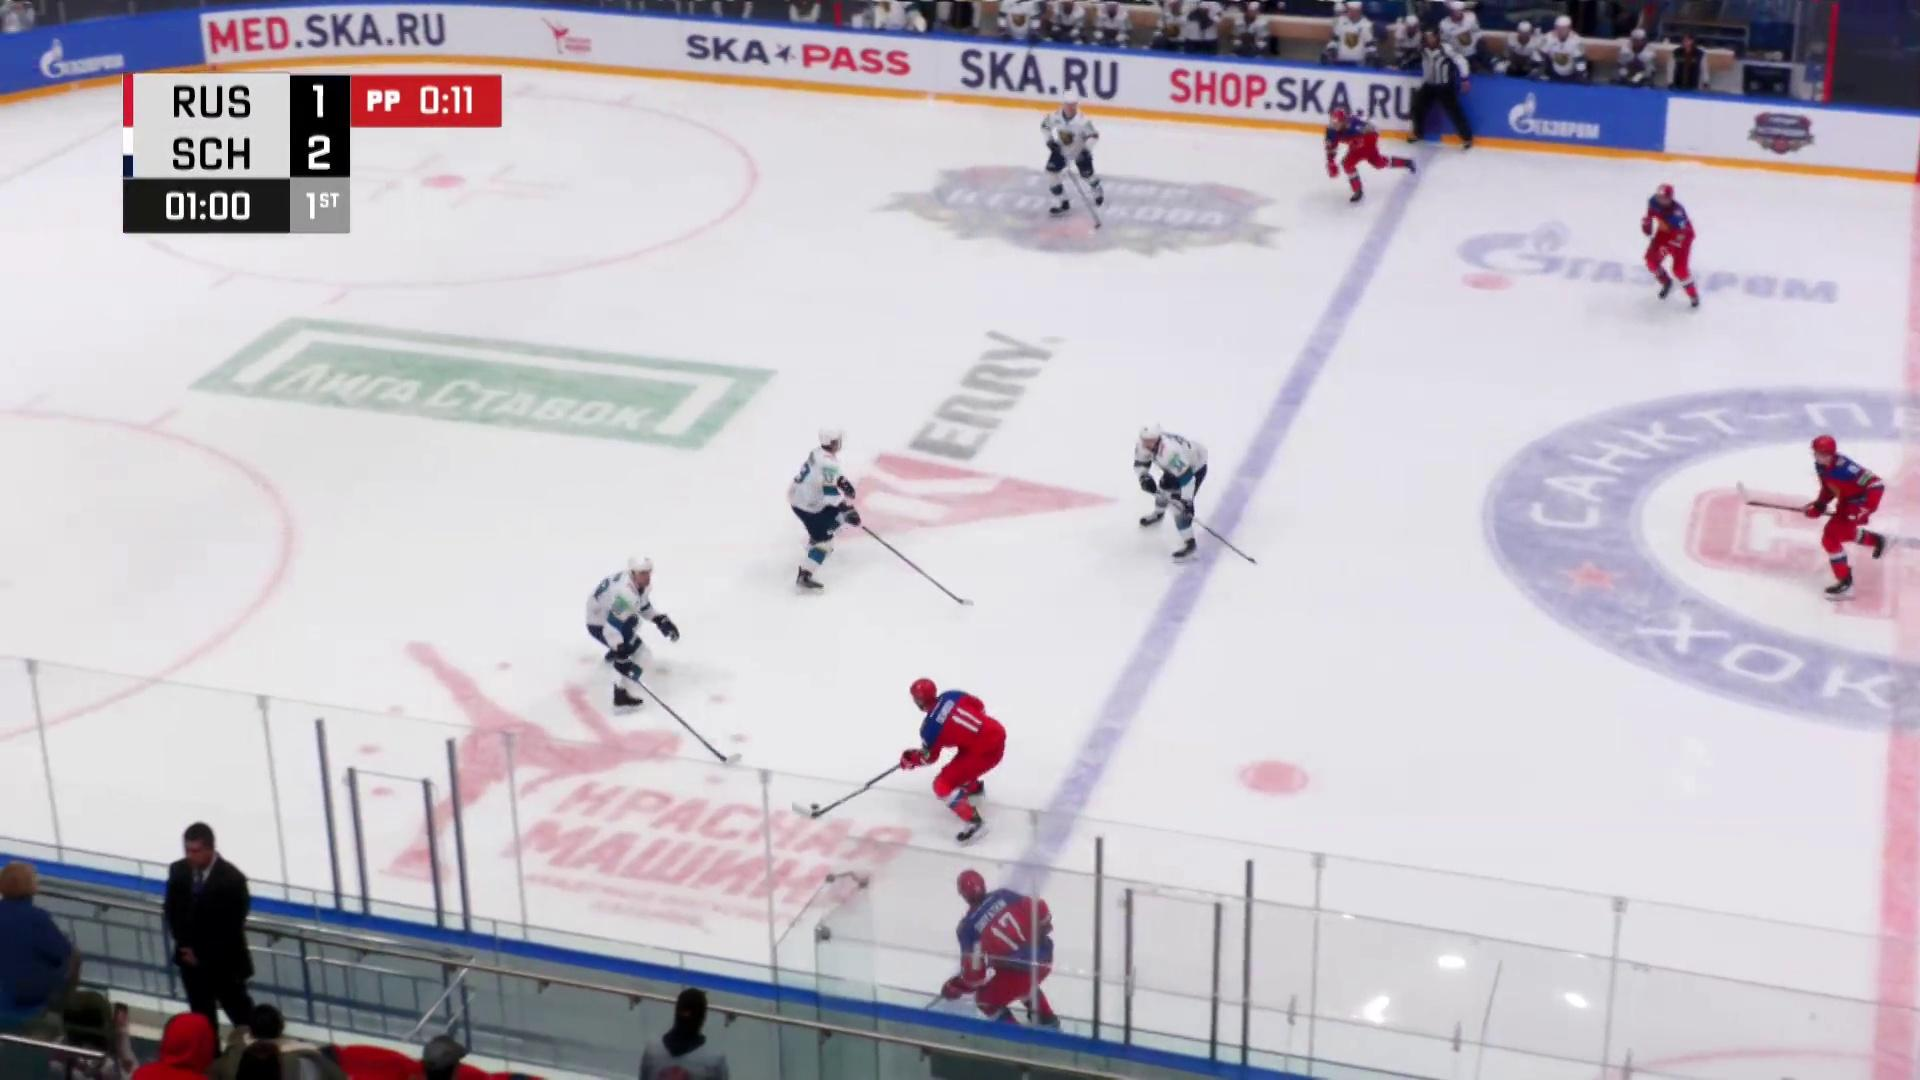ball: (811, 803, 820, 810)
